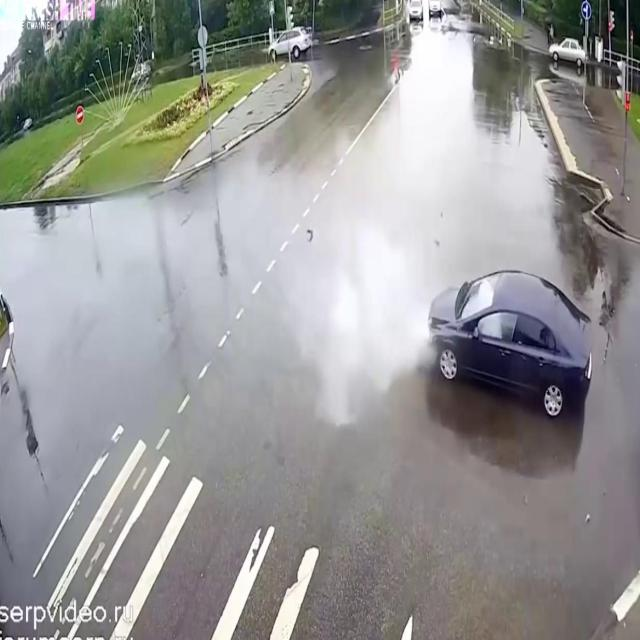accident: (362, 232, 598, 432)
